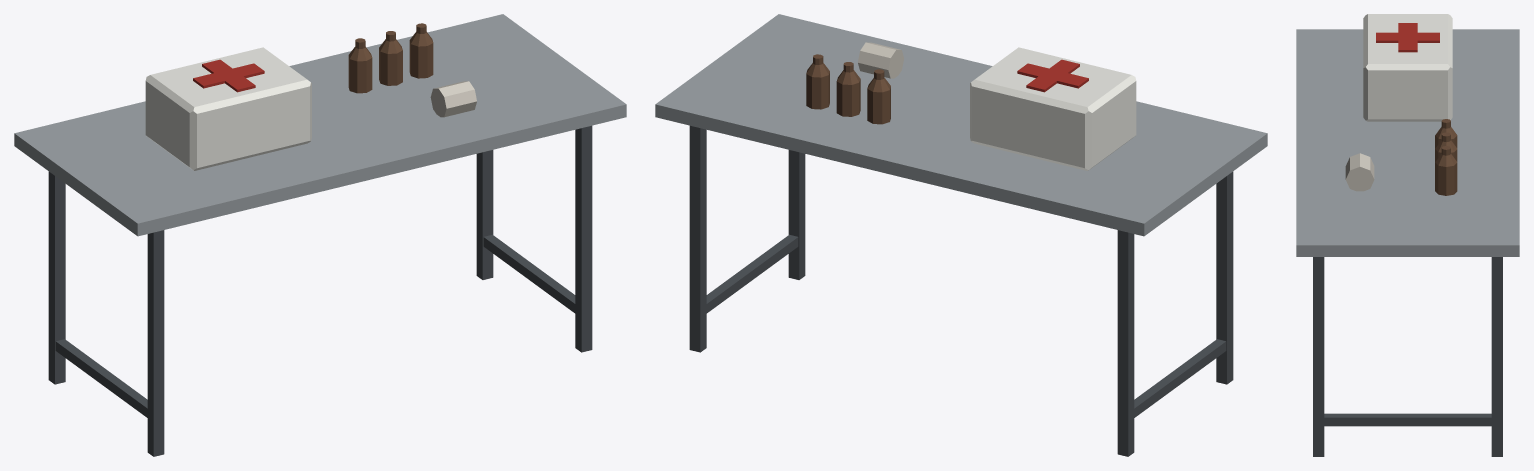
The model's file is table_soins.glb.
The picture shows the model from 3 angles, left to right: view 1: azimuth 30°, elevation 25°; view 2: azimuth 150°, elevation 25°; view 3: azimuth 270°, elevation 25°; orthographic projection. The views are drawn at different scales.
Visible parts, largest first — view 1: top, kit, legs, stretchers, bottles, bandage, cross_a, cross_b; view 2: top, kit, legs, stretchers, bottles, bandage, cross_a, cross_b; view 3: top, kit, legs, stretchers, bottles, bandage, cross_a, cross_b.
Boxes of the visible parts, left/top/right/bottom form: top: left=14, top=14, right=626, bottom=236; kit: left=145, top=47, right=311, bottom=170; legs: left=48, top=125, right=592, bottom=456; stretchers: left=55, top=234, right=575, bottom=417; bottles: left=348, top=23, right=433, bottom=93; bandage: left=430, top=81, right=476, bottom=117; cross_a: left=193, top=63, right=264, bottom=88; cross_b: left=202, top=59, right=255, bottom=92; top: left=655, top=14, right=1267, bottom=236; kit: left=970, top=47, right=1136, bottom=170; legs: left=689, top=125, right=1233, bottom=456; stretchers: left=706, top=234, right=1226, bottom=417; bottles: left=806, top=54, right=890, bottom=124; bandage: left=858, top=42, right=903, bottom=78; cross_a: left=1017, top=63, right=1088, bottom=88; cross_b: left=1026, top=59, right=1079, bottom=92; top: left=1296, top=29, right=1519, bottom=256; kit: left=1363, top=14, right=1452, bottom=121; legs: left=1313, top=257, right=1502, bottom=456; stretchers: left=1324, top=413, right=1491, bottom=426; bottles: left=1435, top=119, right=1457, bottom=195; bandage: left=1345, top=153, right=1374, bottom=191; cross_a: left=1398, top=23, right=1417, bottom=52; cross_b: left=1376, top=32, right=1439, bottom=42.
Size of the model in its own units: 1.6 by 0.978 by 0.7.
Materials: 6 (6 with a texture image).
